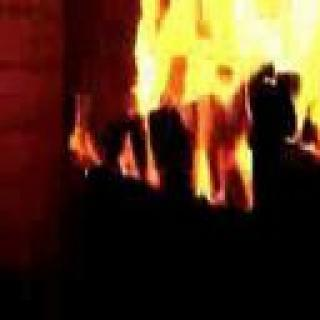fire: (151, 0, 320, 157)
